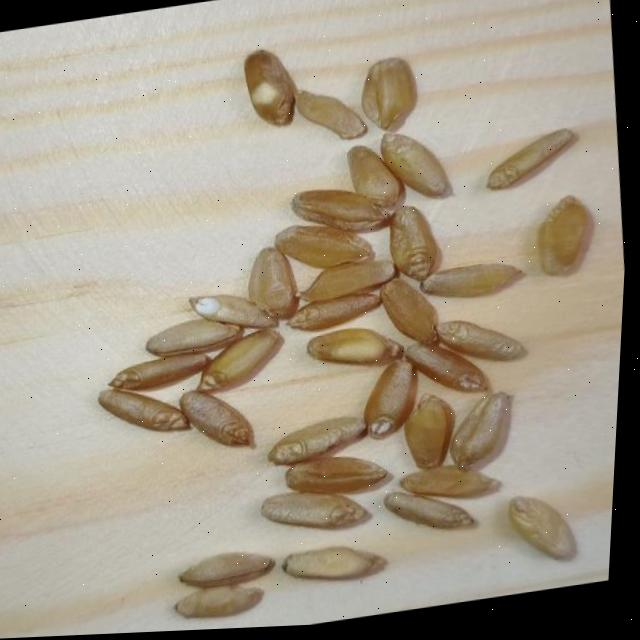wheat_grain: (486, 126, 576, 189), (196, 327, 283, 392), (450, 390, 512, 471), (402, 339, 489, 394), (380, 131, 451, 198), (293, 259, 394, 305), (275, 224, 376, 269), (178, 388, 255, 447), (535, 194, 591, 274), (508, 495, 576, 560), (291, 188, 393, 231), (271, 418, 368, 463), (379, 273, 438, 346), (363, 357, 416, 438), (96, 386, 189, 432), (259, 490, 371, 528), (108, 351, 213, 390), (243, 48, 295, 125), (283, 456, 385, 495), (362, 57, 416, 130), (434, 319, 527, 361), (145, 317, 245, 356), (346, 144, 404, 211), (383, 489, 477, 530), (388, 204, 438, 281), (403, 393, 453, 468), (295, 89, 367, 141), (247, 245, 298, 318), (305, 327, 402, 365), (281, 545, 386, 580), (421, 263, 525, 298), (179, 551, 275, 588), (289, 293, 382, 331), (399, 465, 498, 499), (189, 294, 281, 330), (174, 584, 264, 618)
